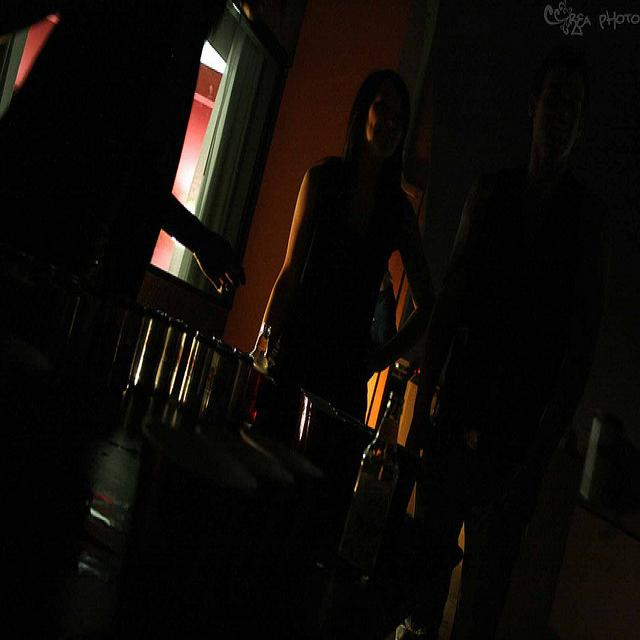Bottle: (320, 346, 433, 607)
People: (464, 16, 640, 498), (235, 59, 435, 474)
